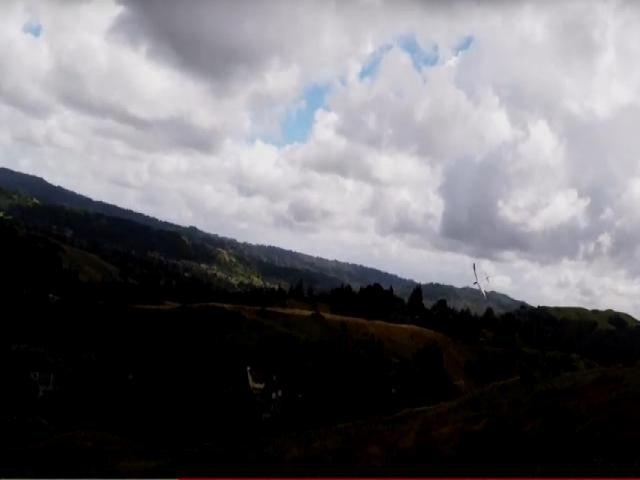iha: (472, 264, 488, 296)
